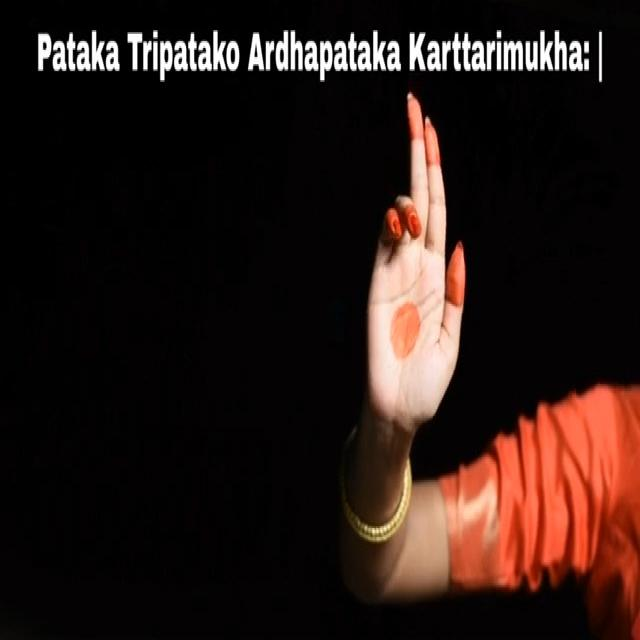Ardhapataka: (339, 87, 478, 446)
bangle: (337, 465, 423, 544)
text: (26, 14, 615, 88)
